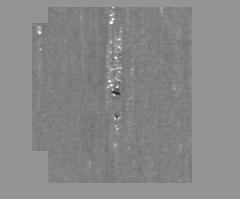oxl: (35, 10, 205, 189)
